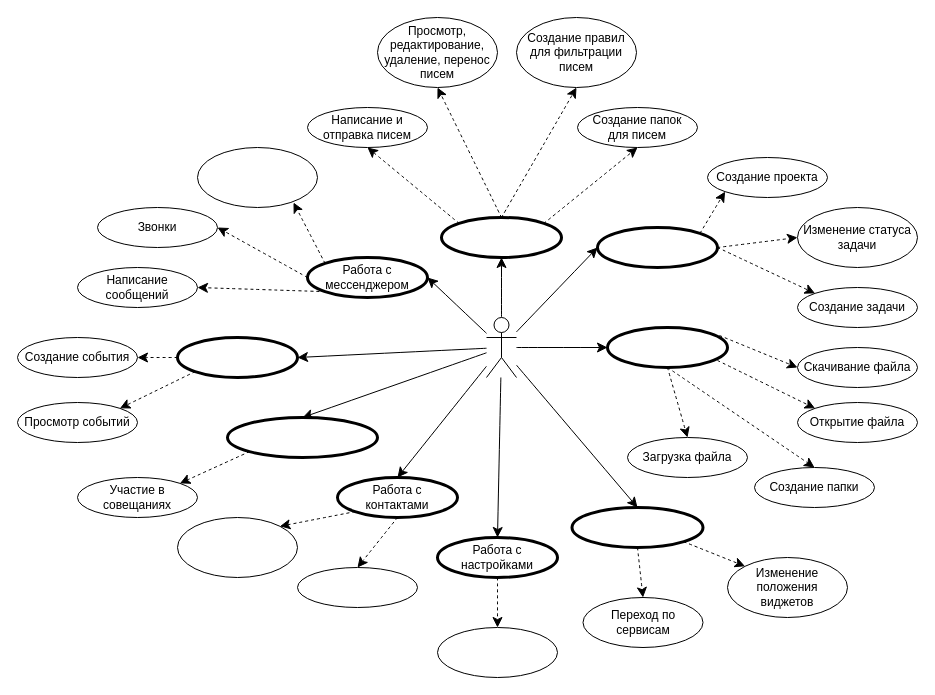
Image size: 935x695. Some labels were removed from this diagram. Here are the shapes that lost their labels. From the top down, the centre of each, then its label:
At (257,177): "Создание комнаты, диалога, канала".
At (501,237): "Работа с почтой".
At (657,247): "Работа с проектами".
At (237,357): "Работа с календарём".
At (501,347): "Сотрудник".
At (667,347): "Работа с файлами".
At (302,437): "Общение по ВКС".
At (237,547): "Заведение и удаление контактов".
At (637,527): "Работа с главной панелью".
At (357,587): "Поделиться контактом".
At (497,652): "Смена темы, цвета, подписи".
